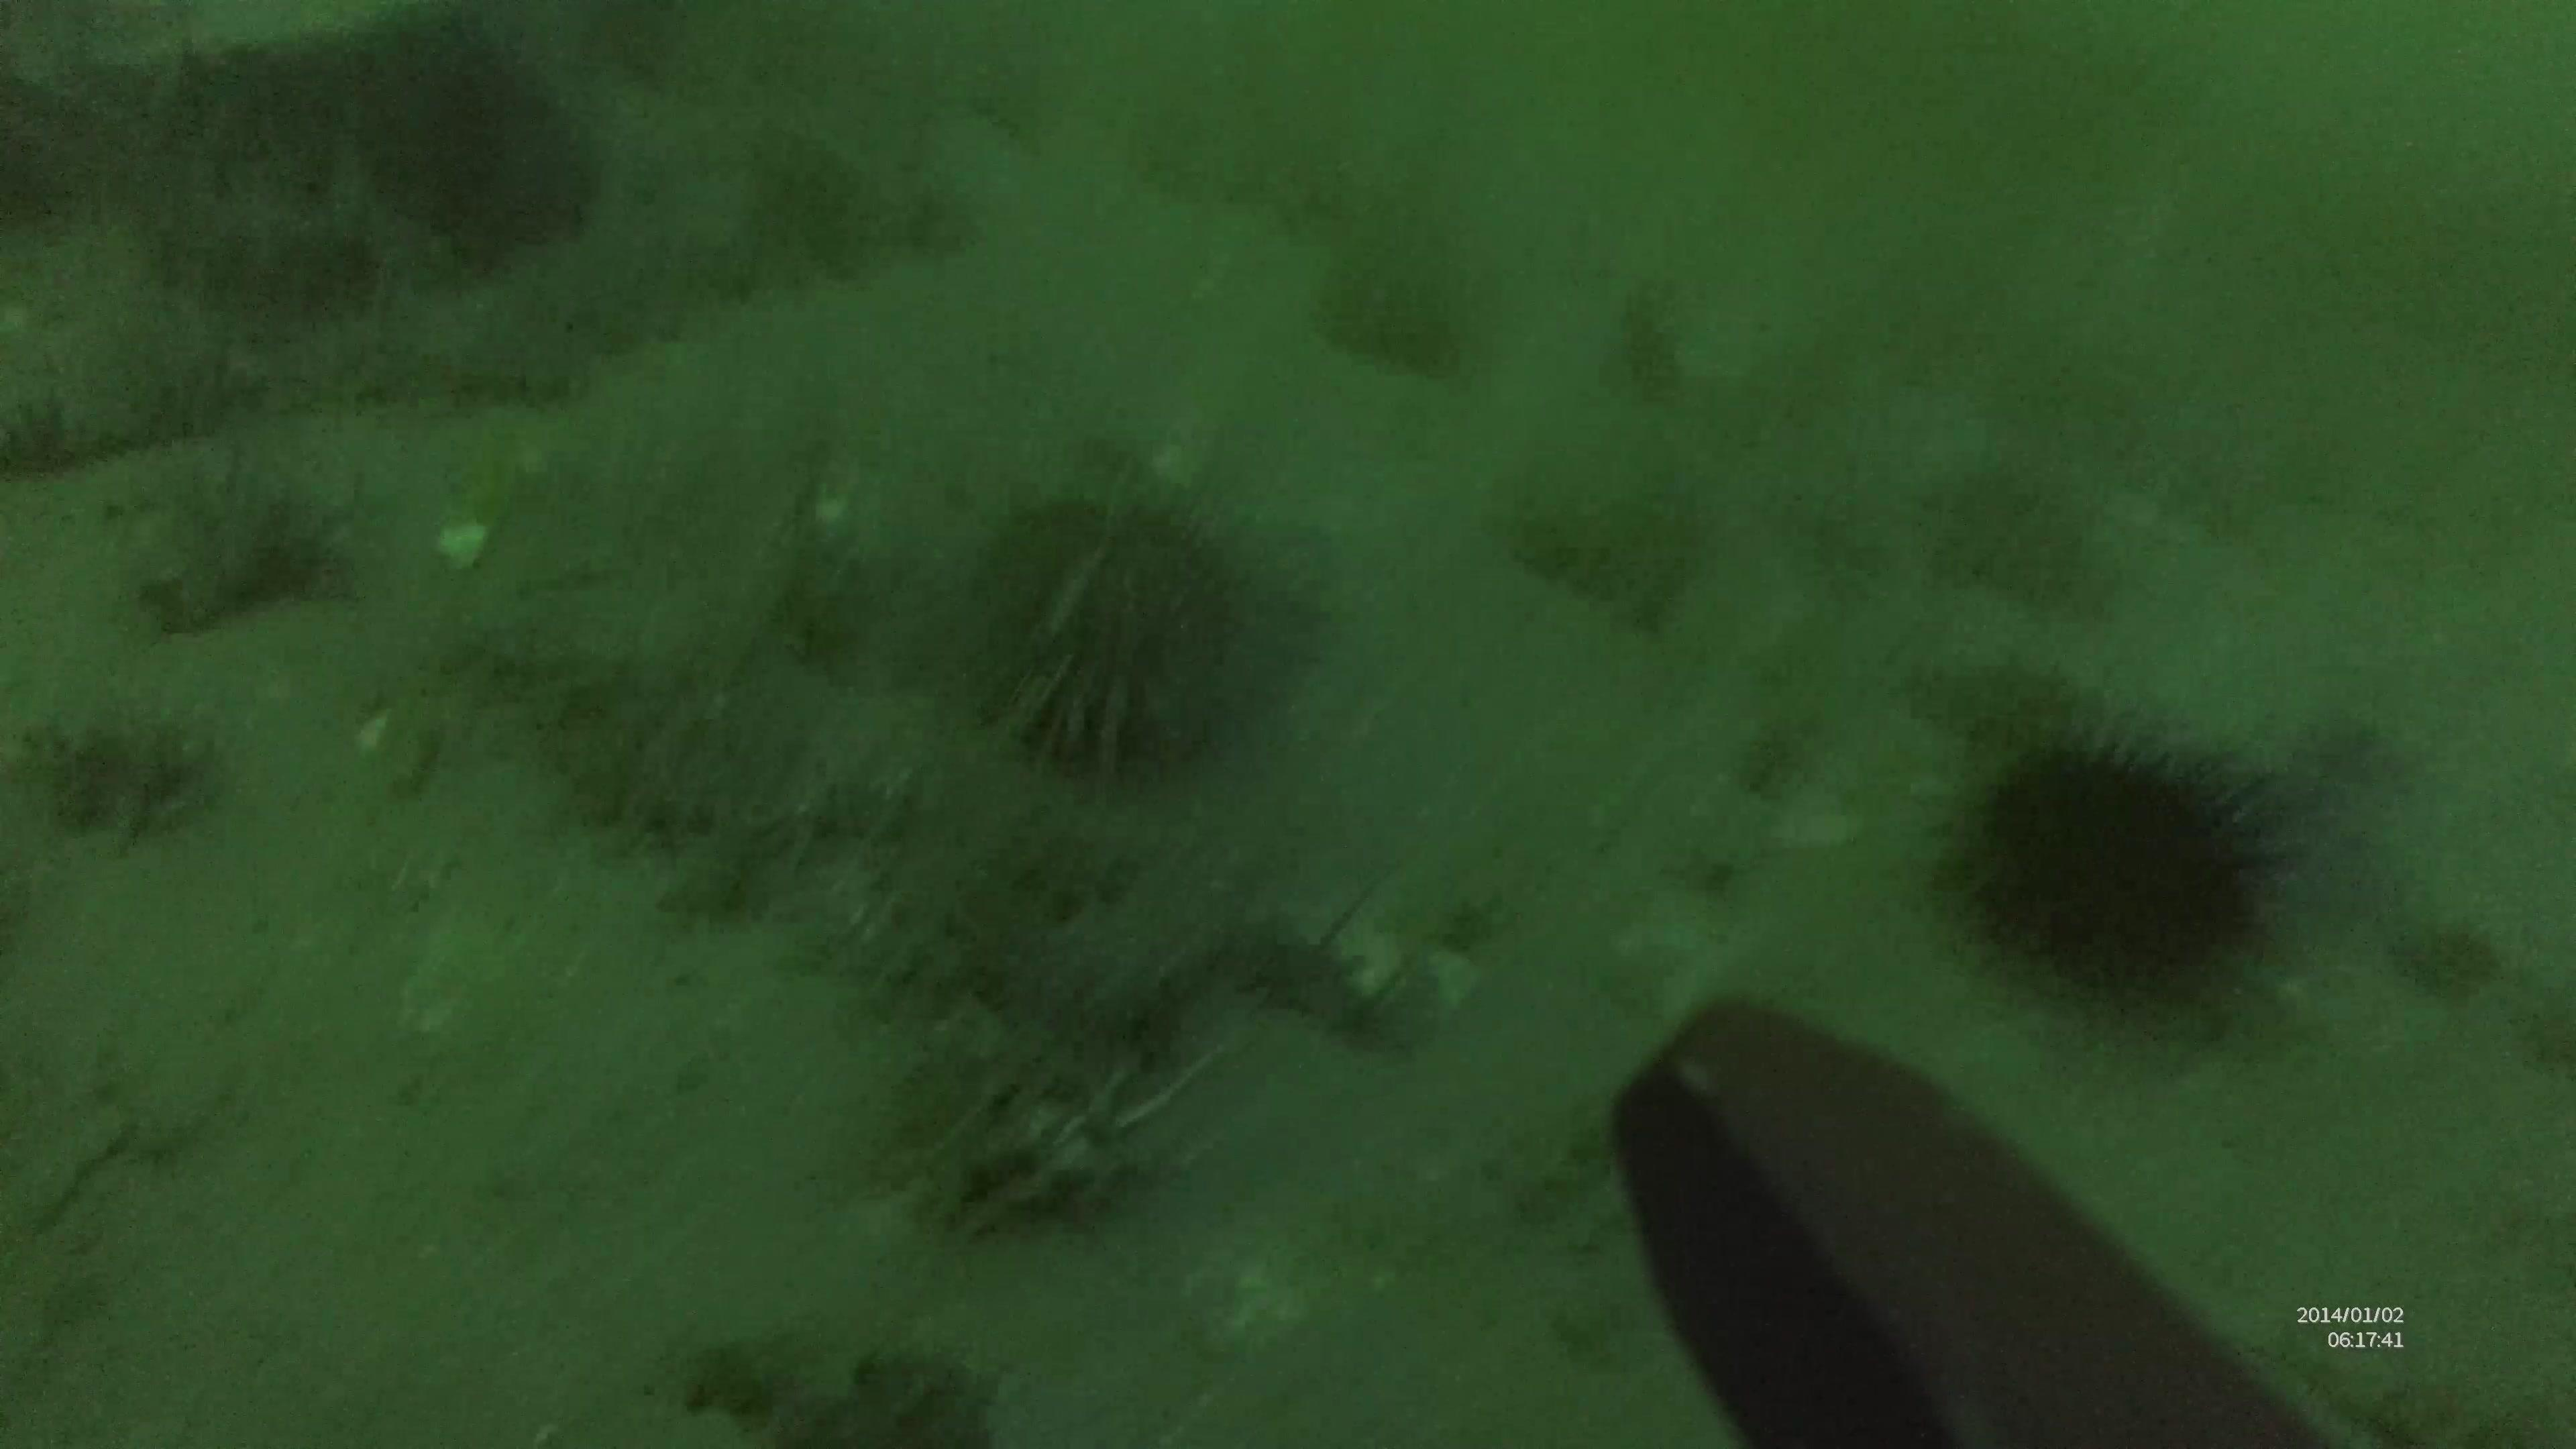echinus: (1937, 720, 2293, 1044)
